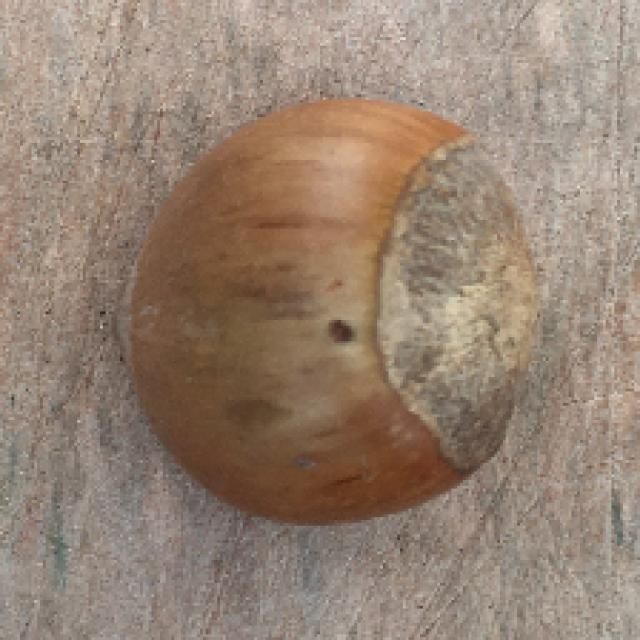qualityHazelnut: (127, 95, 537, 526)
